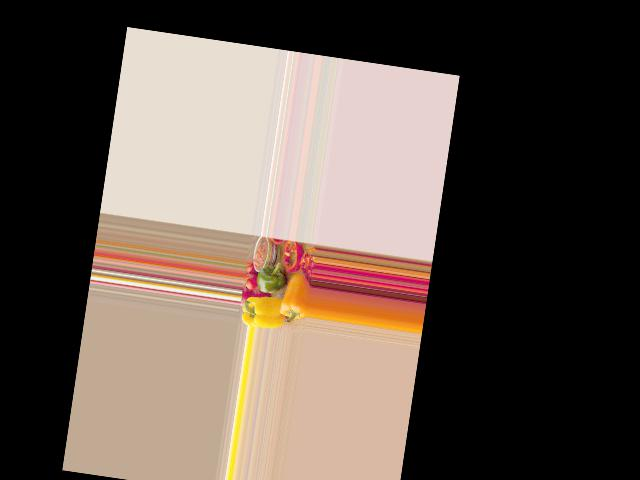bell_pepper: (240, 292, 280, 329)
